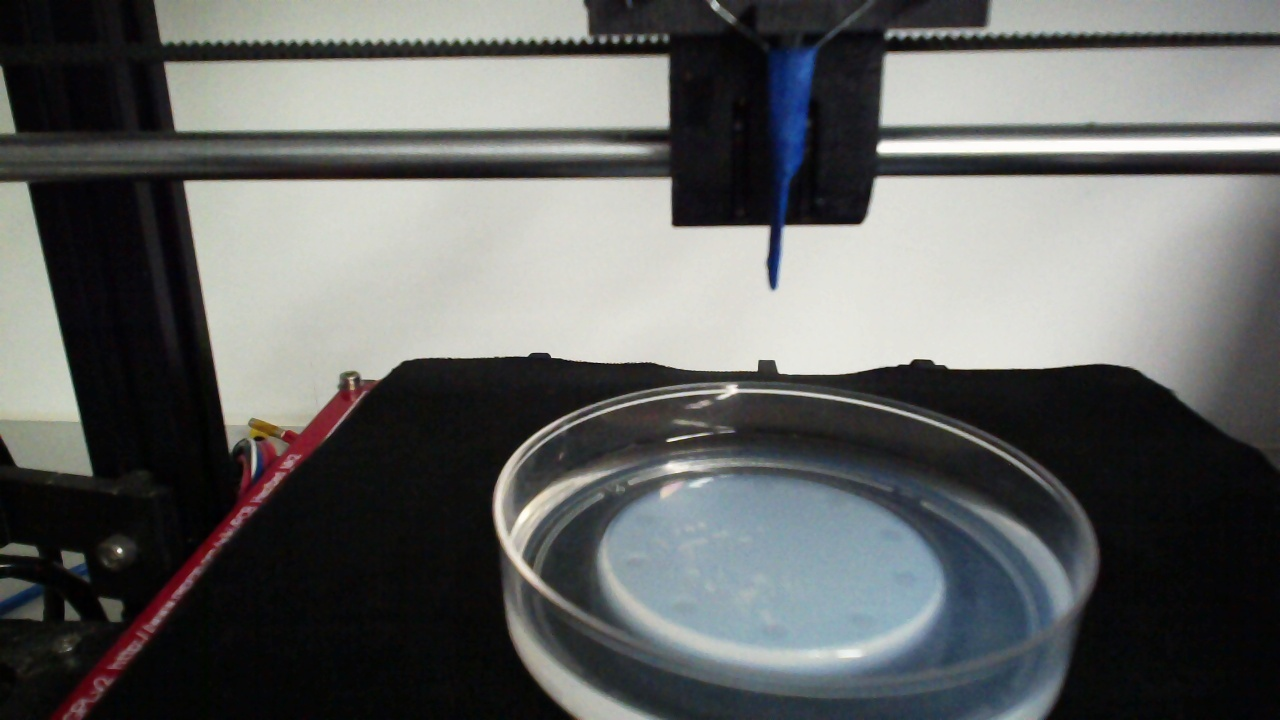groove: (758, 617, 791, 644), (671, 594, 700, 619), (750, 475, 781, 498), (891, 567, 920, 590), (846, 611, 875, 634), (823, 489, 852, 512), (877, 523, 905, 545), (630, 508, 657, 529), (622, 552, 654, 569)
needle: (768, 49, 813, 291)
